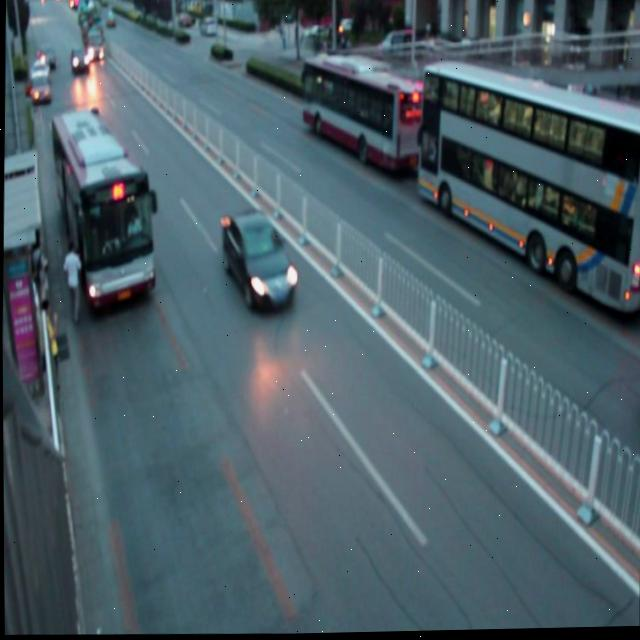car: (221, 210, 296, 308), (30, 73, 53, 102)
van: (417, 62, 640, 317), (47, 111, 157, 305), (300, 55, 427, 175)
